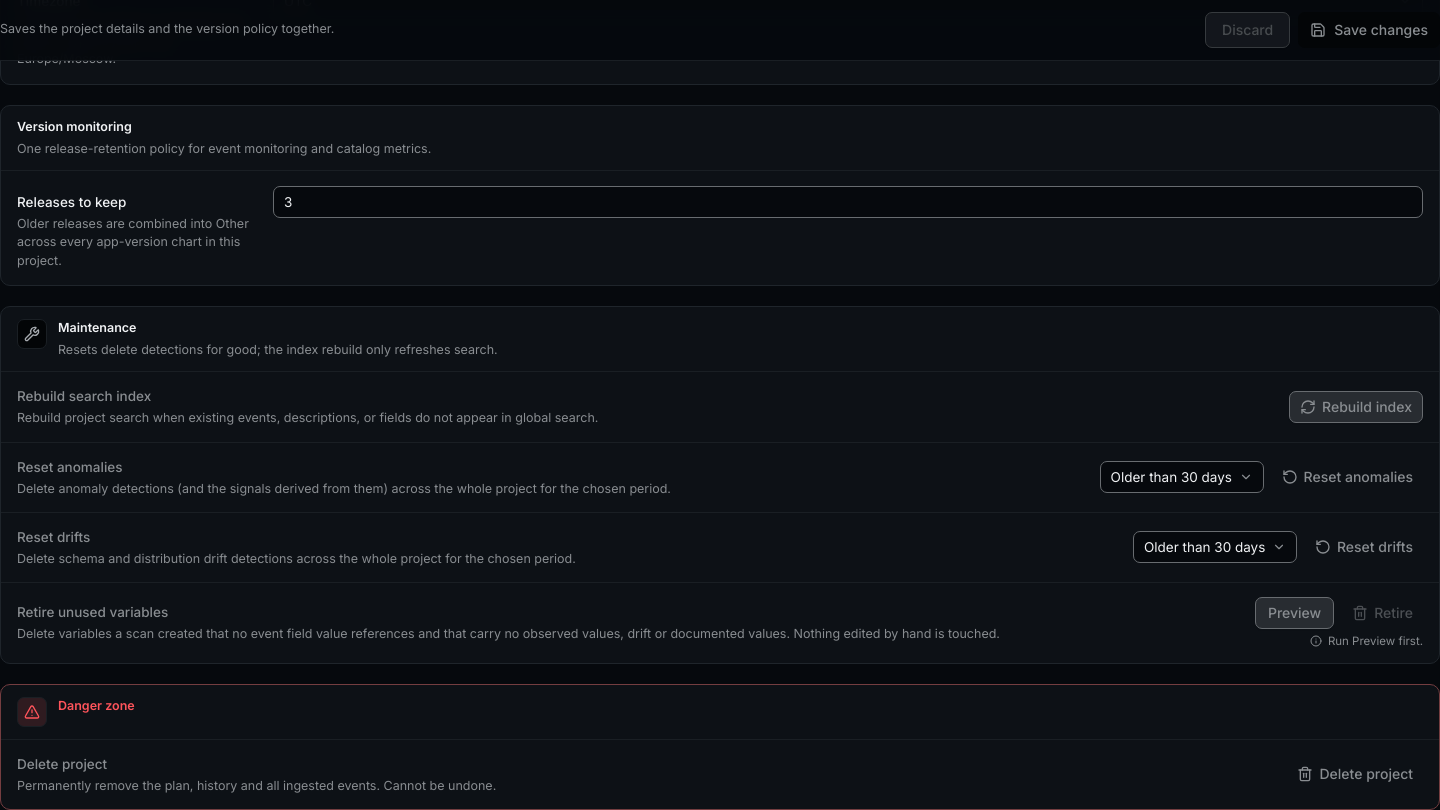
Test case: ProjectGeneralSection — reset preview › says when the reset could not be counted instead of dropping the count silently
The image size is (1440, 810).
(page scrolled)
Click the button "Reset drifts" at (1364, 547), box left=1305, top=531, right=1423, bottom=563
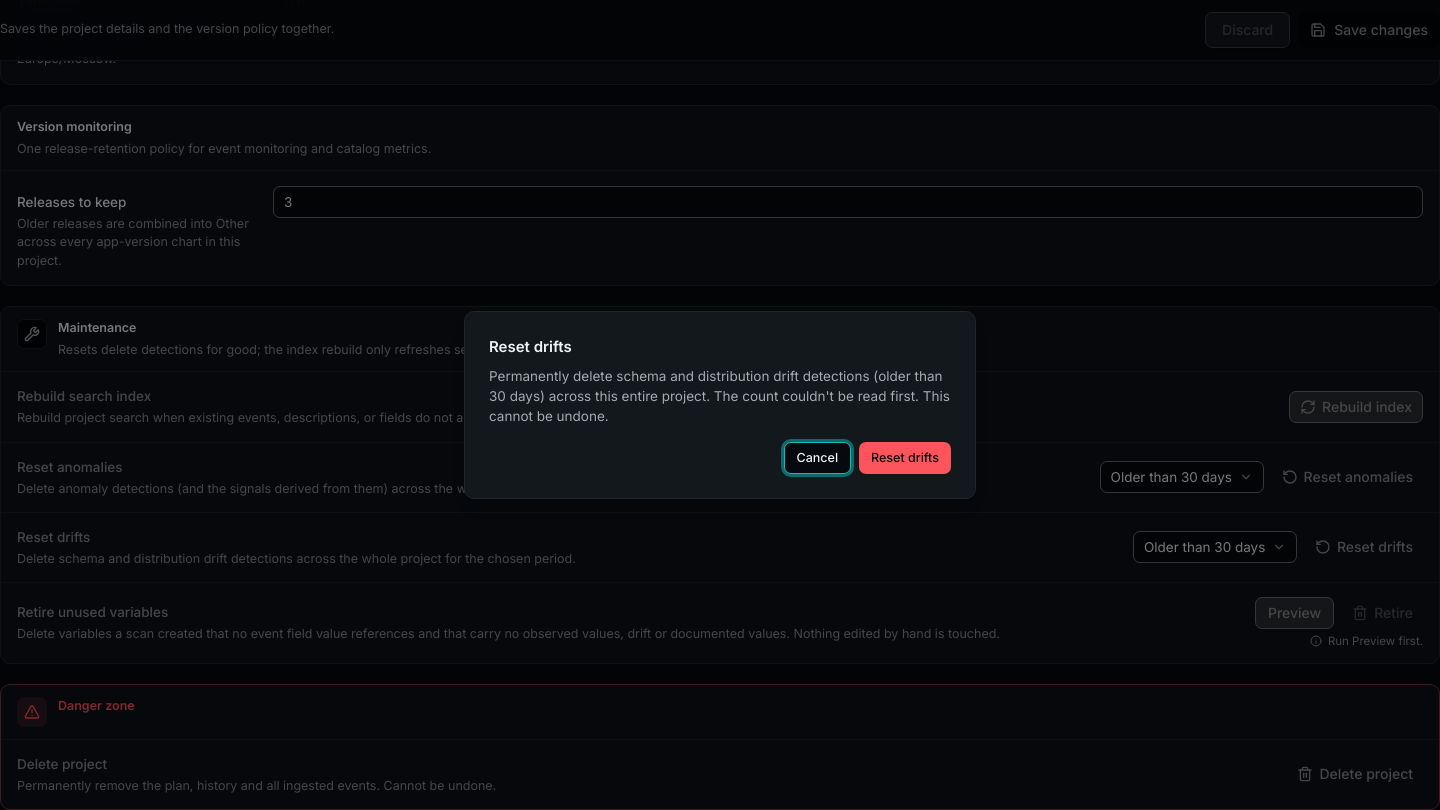
Result: the dialog shows "Permanently delete schema and distribution drift detections" at left=489, top=368, right=950, bottom=424
Result: the dialog shows "The count couldn't be read first. This cannot be undone." at left=489, top=368, right=950, bottom=424
